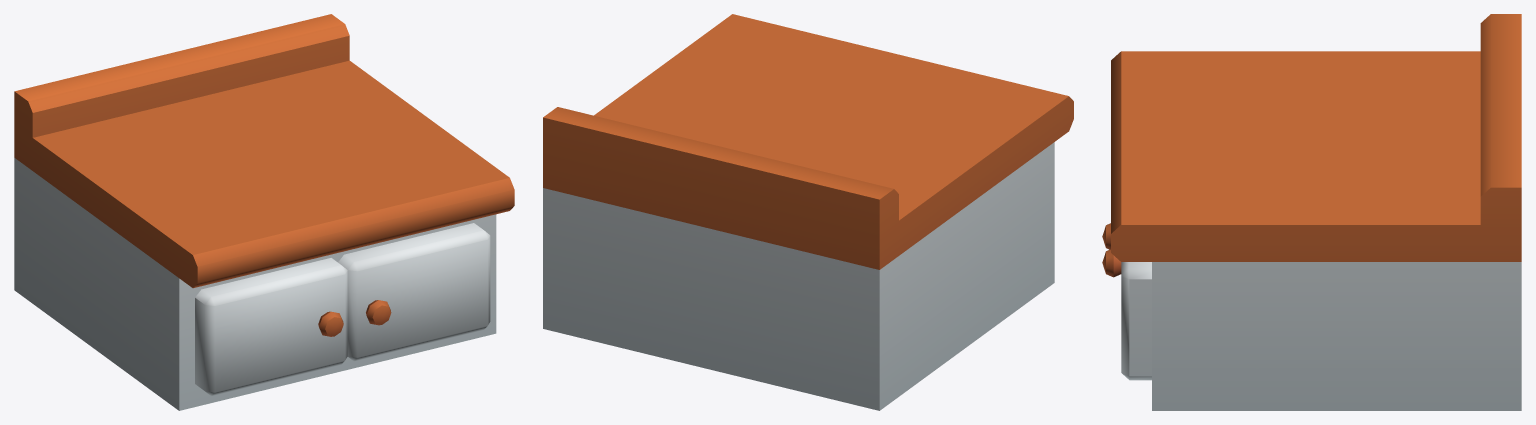
File: kitchentable.glb
The picture shows the model from 3 angles, left to right: view 1: azimuth 30°, elevation 25°; view 2: azimuth 150°, elevation 25°; view 3: azimuth 270°, elevation 25°; orthographic projection. The views are drawn at different scales.
Parts seen in each view (by area): view 1: kitchencounter_straight_B_backsplash; view 2: kitchencounter_straight_B_backsplash; view 3: kitchencounter_straight_B_backsplash.
Part boxes in pixels (bbox=[...]): kitchencounter_straight_B_backsplash: bbox=[14, 14, 514, 410]; kitchencounter_straight_B_backsplash: bbox=[543, 14, 1073, 410]; kitchencounter_straight_B_backsplash: bbox=[1102, 14, 1521, 410].
Size of the model in its own units: 2 by 1.2 by 2.04.
1 material, 1 textured.
